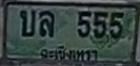5: (109, 11, 123, 39), (93, 11, 107, 38), (77, 10, 90, 37)
A26: (19, 9, 35, 36)
A36: (38, 10, 54, 36)
CCO: (36, 43, 101, 63)
